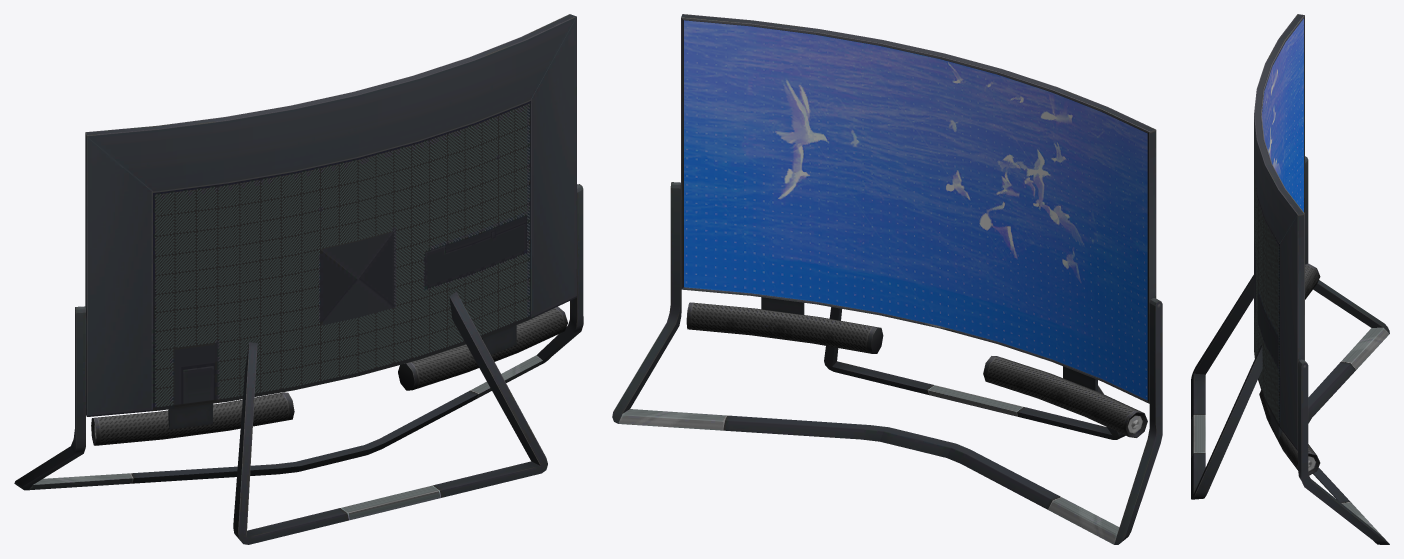
File: furn_we2021_walldeco_001.gltf
The picture shows the model from 3 angles, left to right: view 1: azimuth 30°, elevation 25°; view 2: azimuth 150°, elevation 25°; view 3: azimuth 270°, elevation 25°; orthographic projection. The views are drawn at different scales.
Visible parts, largest first — view 1: we2021_walldeco_001; view 2: we2021_walldeco_001; view 3: we2021_walldeco_001.
Boxes of the visible parts, x1,y1,x2,y2 form: we2021_walldeco_001: [14, 14, 583, 544]; we2021_walldeco_001: [612, 14, 1162, 544]; we2021_walldeco_001: [1191, 14, 1389, 544].
Size of the model in its own units: 1.67 by 1.17 by 0.648.
Materials: 2 (2 with a texture image).
